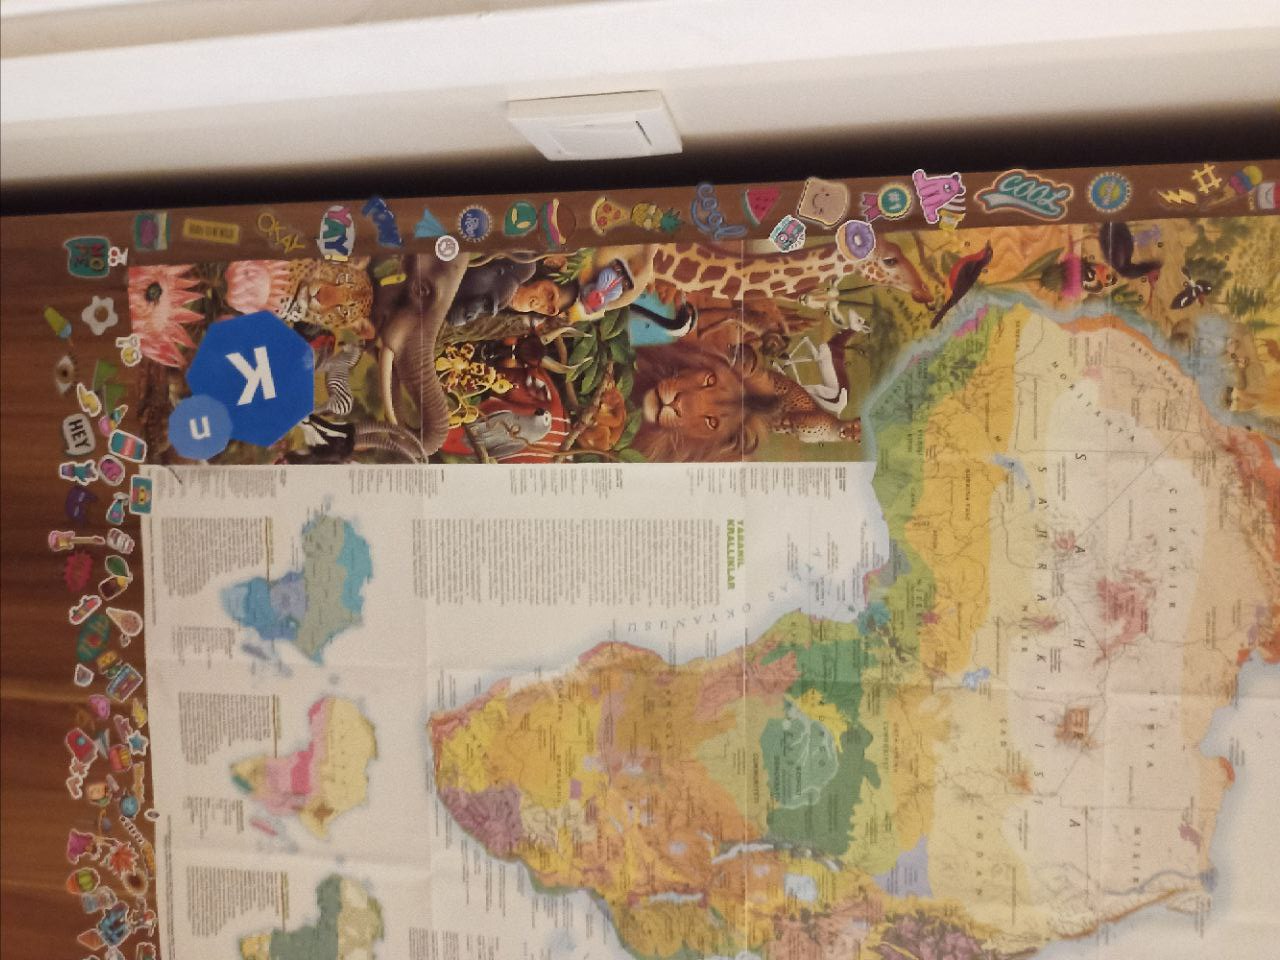knative: (166, 308, 314, 462)
